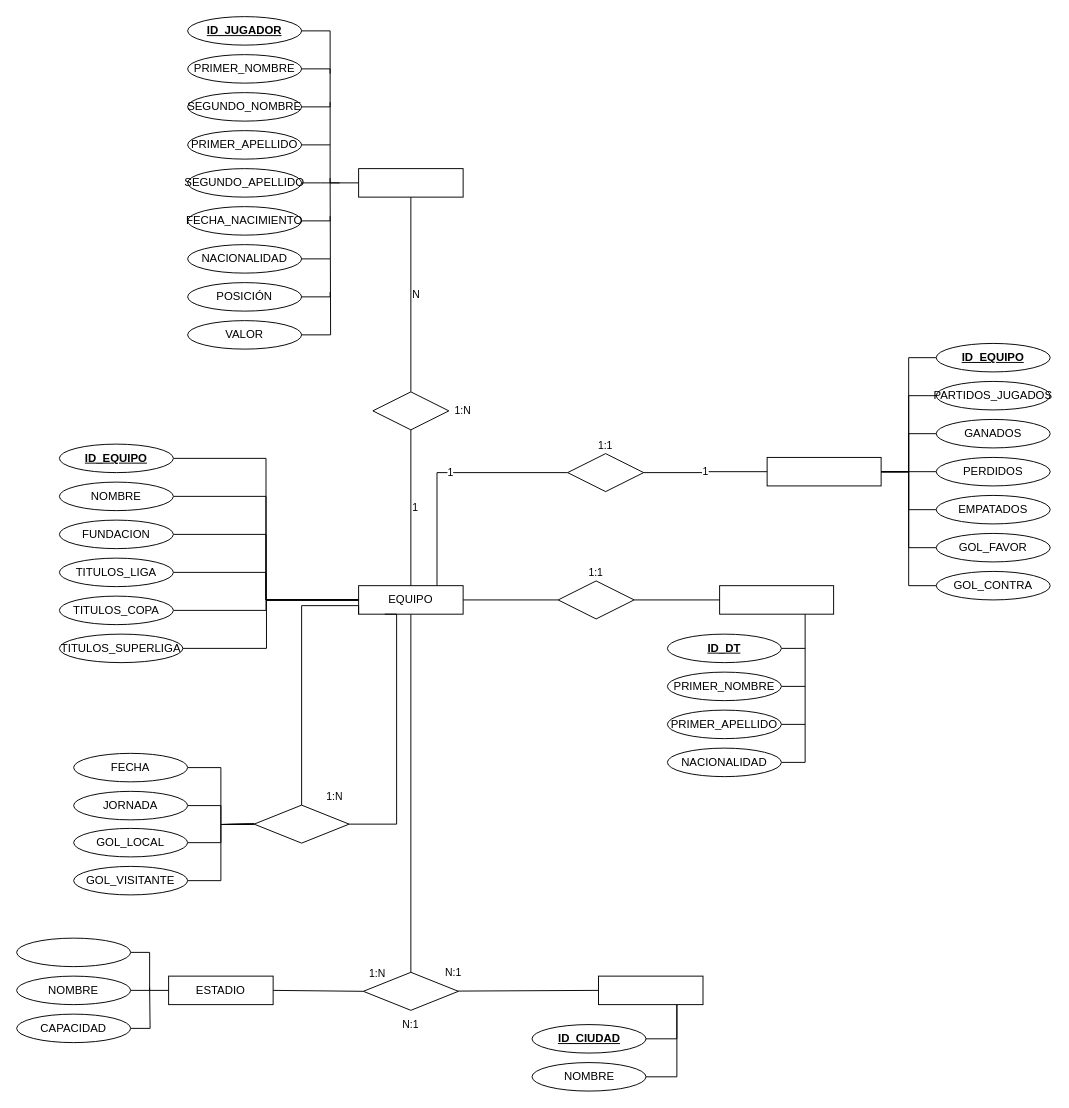
Some shapes in this 1069 by 1108 pixel diagram are drawn without their labels. Here are the shapes that lost their labels. From the top down, the box of each, then its label:
(358, 168, 463, 197): JUGADOR
(372, 391, 449, 430): JUGAR
(567, 453, 644, 492): CLASIFICAR
(766, 456, 881, 486): TABLA_POSICIONES
(557, 580, 634, 619): ENTRENAR
(719, 585, 834, 614): DIRECTOR_TECNICO
(253, 804, 349, 843): ENFRENTAR
(16, 937, 131, 967): ID_ESTADIO
(362, 971, 458, 1010): PERTENECER
(598, 975, 703, 1005): CIUDAD
